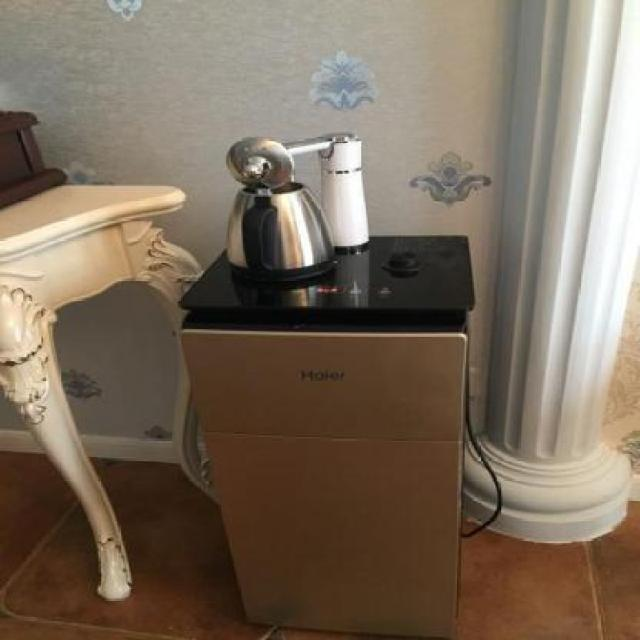cooler: (180, 131, 475, 640)
